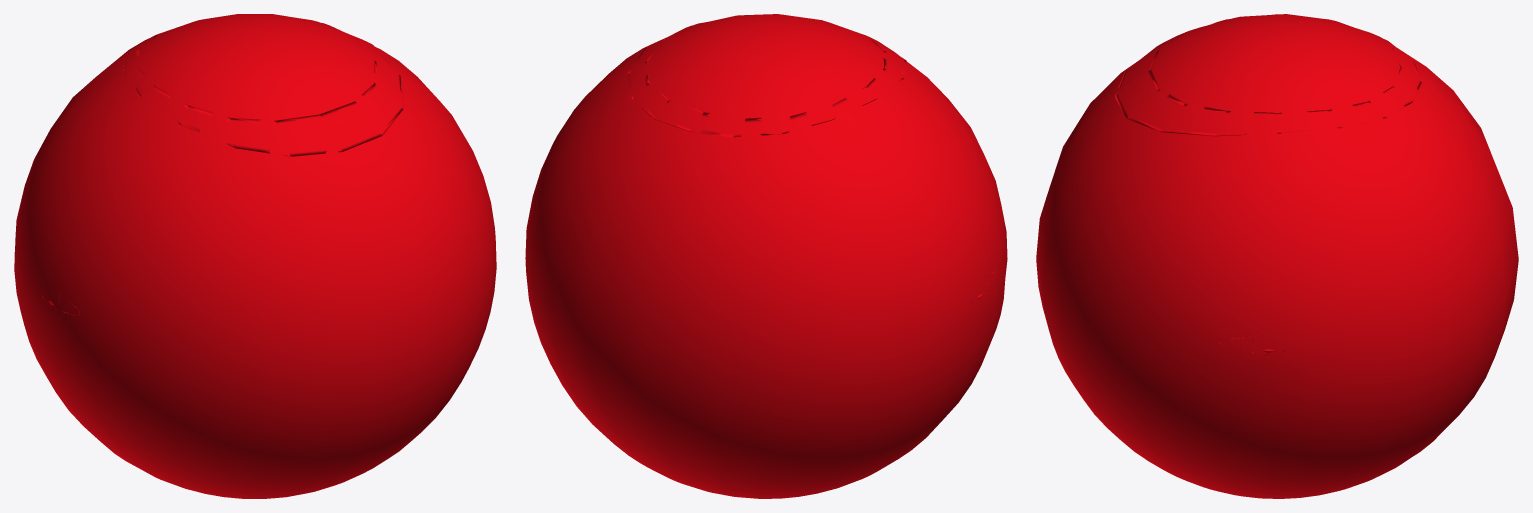
The model's file is RoninBlendShape.fbx.
The picture shows the model from 3 angles, left to right: view 1: azimuth 30°, elevation 25°; view 2: azimuth 150°, elevation 25°; view 3: azimuth 270°, elevation 25°; orthographic projection.
Parts seen in each view (by area): view 1: Ronin; view 2: Ronin; view 3: Ronin.
Boxes of the visible parts, bbox=[...] form: Ronin: bbox=[14, 14, 496, 498]; Ronin: bbox=[525, 14, 1007, 498]; Ronin: bbox=[1036, 14, 1518, 498].
Size of the model in its own units: 7.92 by 7.96 by 7.9.
